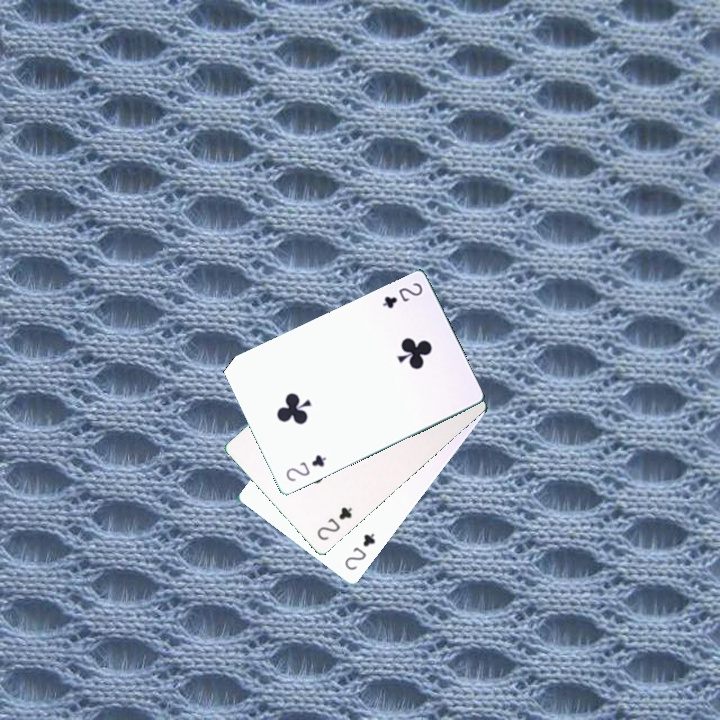2c: (313, 503, 355, 543), (340, 529, 378, 573), (282, 450, 329, 484), (378, 278, 425, 311)
